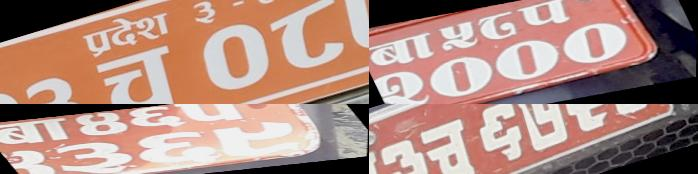0: (191, 12, 282, 103), (369, 32, 440, 70), (0, 116, 80, 146), (249, 0, 281, 10)
1: (372, 69, 434, 104)
2: (554, 104, 613, 140), (0, 80, 42, 104)
3: (16, 63, 100, 104), (375, 134, 436, 174), (186, 0, 226, 30)
4: (121, 130, 226, 168), (118, 105, 188, 130), (594, 104, 661, 126)
5: (67, 111, 135, 137), (0, 148, 67, 174)
6: (464, 104, 531, 174), (431, 21, 482, 52)
7: (511, 104, 573, 159), (331, 0, 369, 61)
8: (261, 0, 358, 82), (516, 0, 579, 29), (172, 104, 252, 125)
ba: (42, 139, 140, 174), (369, 146, 396, 174)
cha: (88, 34, 196, 104), (414, 112, 483, 174), (419, 52, 502, 100), (553, 19, 636, 66), (487, 36, 569, 83)
lu: (202, 120, 309, 156)
pa: (472, 11, 526, 42)
